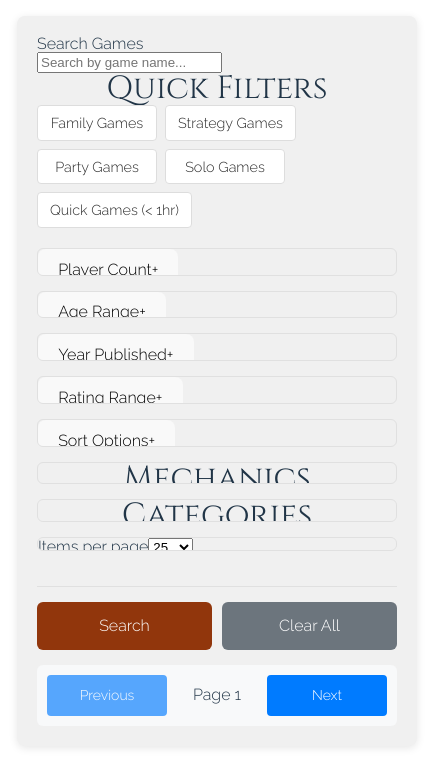
Scenario: AdvancedSearchBar Component › clears all filters when Clear All is clicked
Set some values first
Type "Test Game" into the field with placeholder "Search by game name...".
click(130, 63); type("Test Game")  # box x1=37 y1=52 x2=222 y2=73
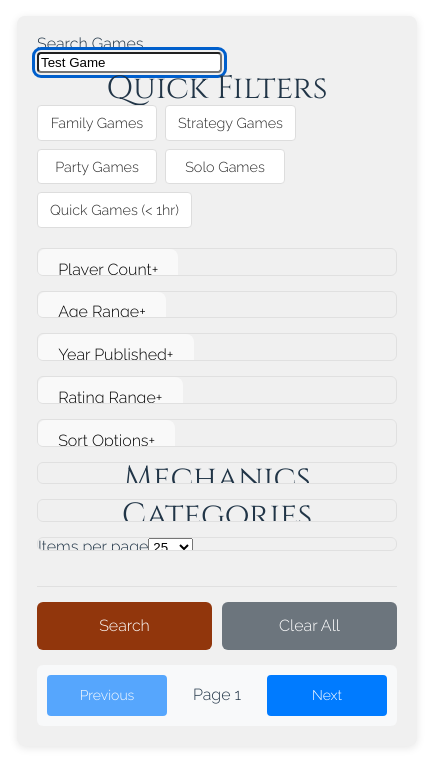
Click Clear All button
Click the button "Clear All".
click(310, 626)  # box x1=222 y1=602 x2=397 y2=650
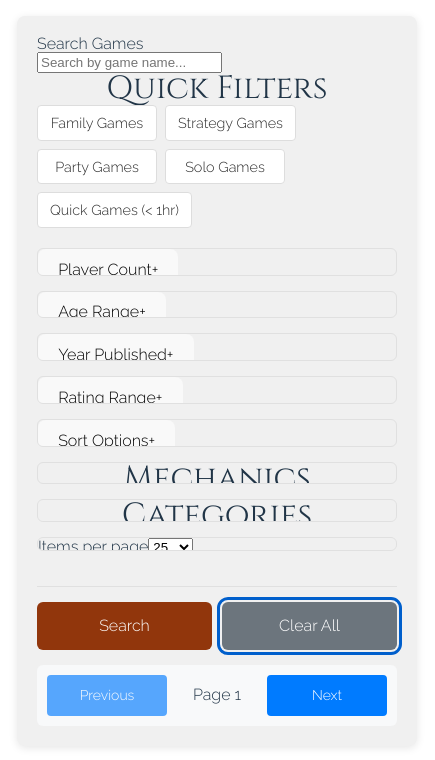
Now the field with placeholder "Search by game name..." is empty, box x1=37 y1=52 x2=222 y2=73
